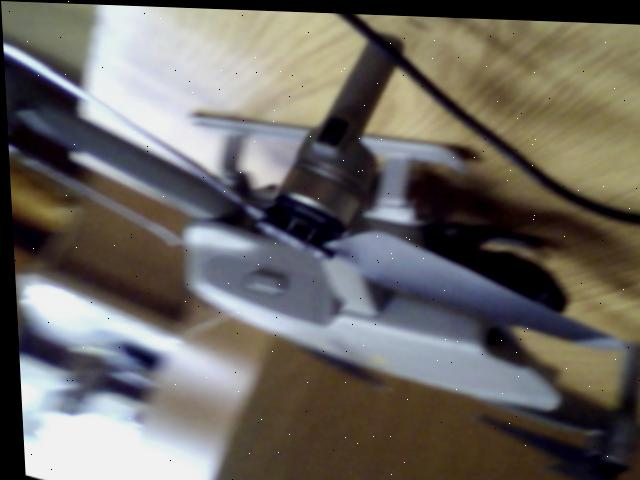drone: (2, 54, 640, 459)
